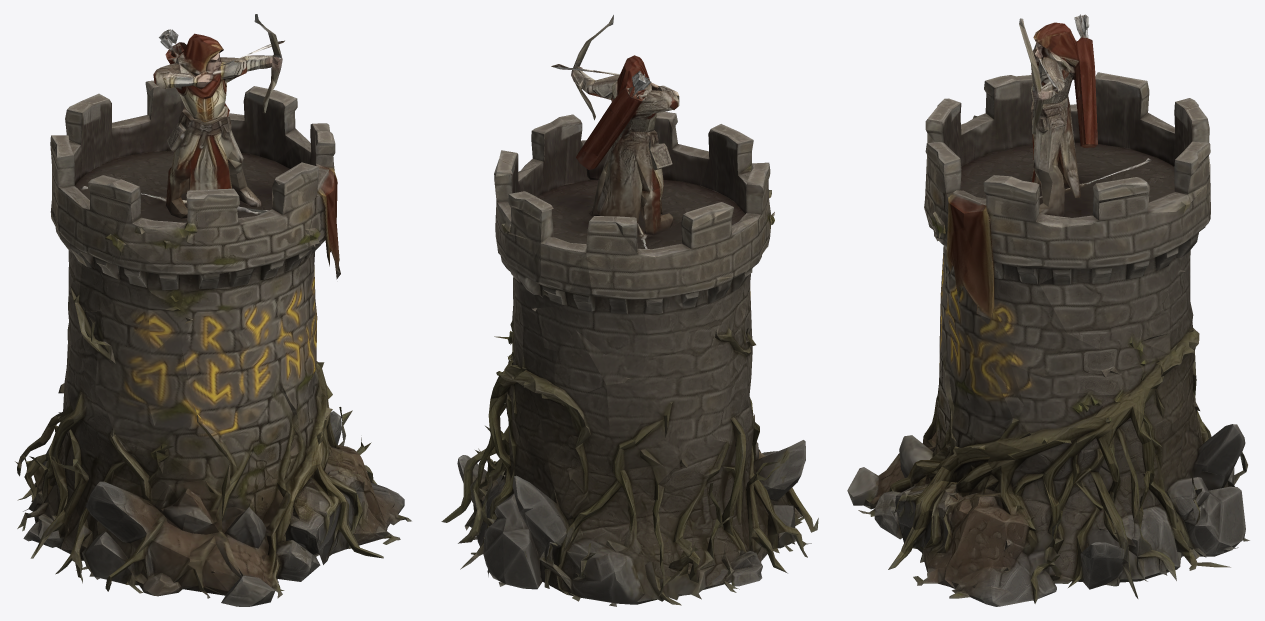
3 renders of one model, left to right at view 1: azimuth 30°, elevation 25°; view 2: azimuth 150°, elevation 25°; view 3: azimuth 270°, elevation 25°, orthographic. The views are drawn at different scales.
Size of the model in its own units: 1.32 by 1.9 by 1.33.
1 material, 1 textured.
